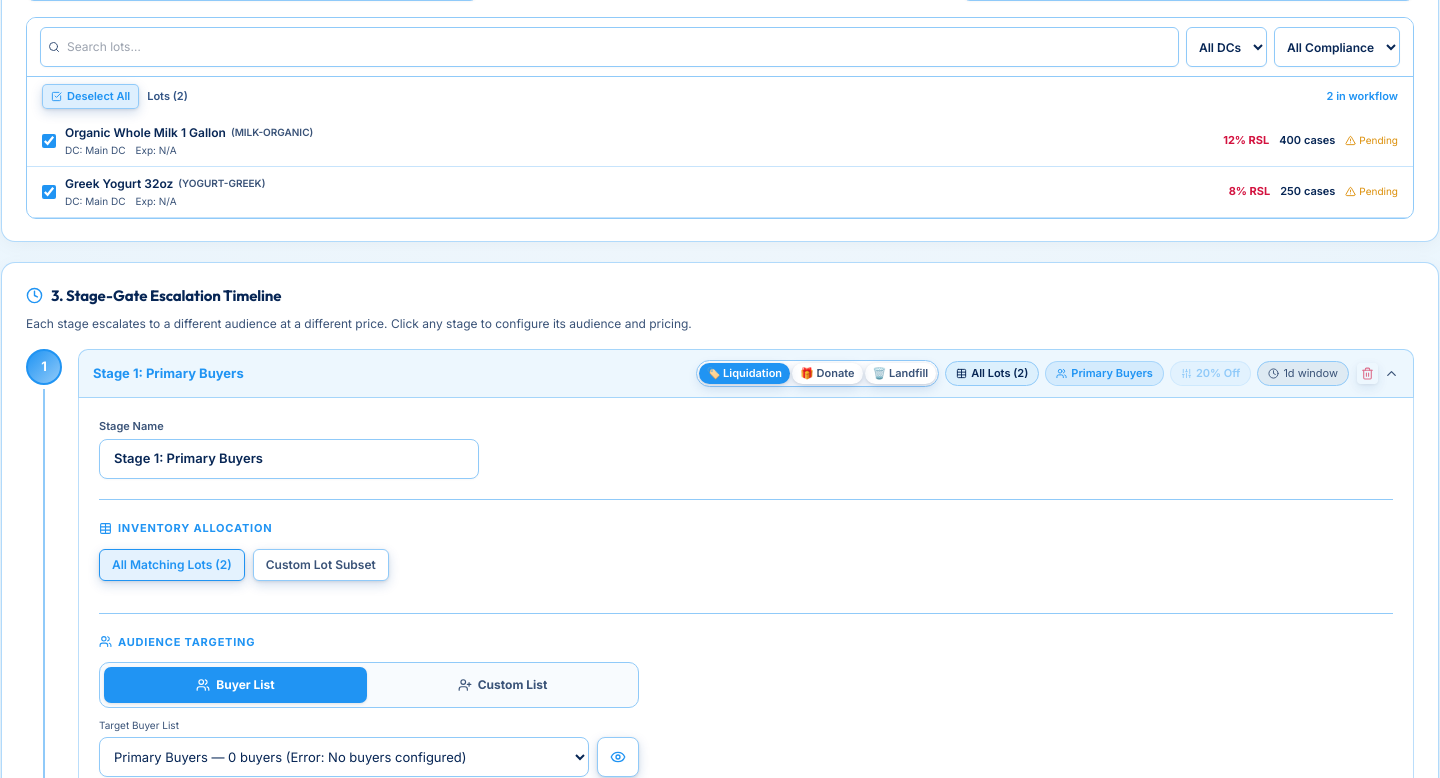
Test case: Slice 3: Context-Aware Stage Email Presets & Dynamic Token Interpolation › pre-populates Donation email template and subject when opening StageEmailModal for a Donation stage
(page scrolled)
Note: Switch Stage 1 to Donation
Click the button with test id "stage-1-type-donation" at (827, 373), box 792,363 -> 863,384
(page scrolled)
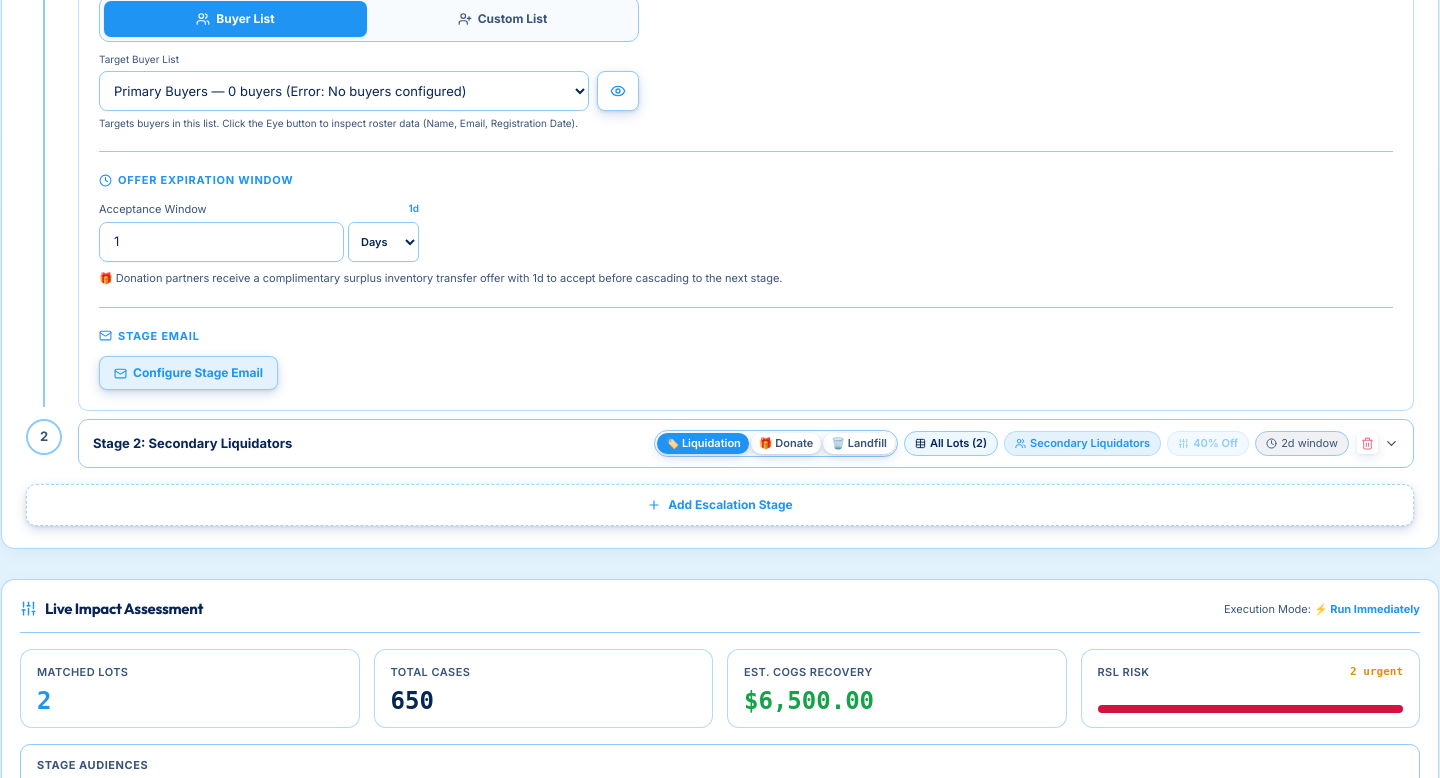
Note: Stage 1 is expanded by default, open Configure Stage Email modal
Click the button with test id "configure-stage-email-btn-1" at (188, 373), box 99,356 -> 278,390
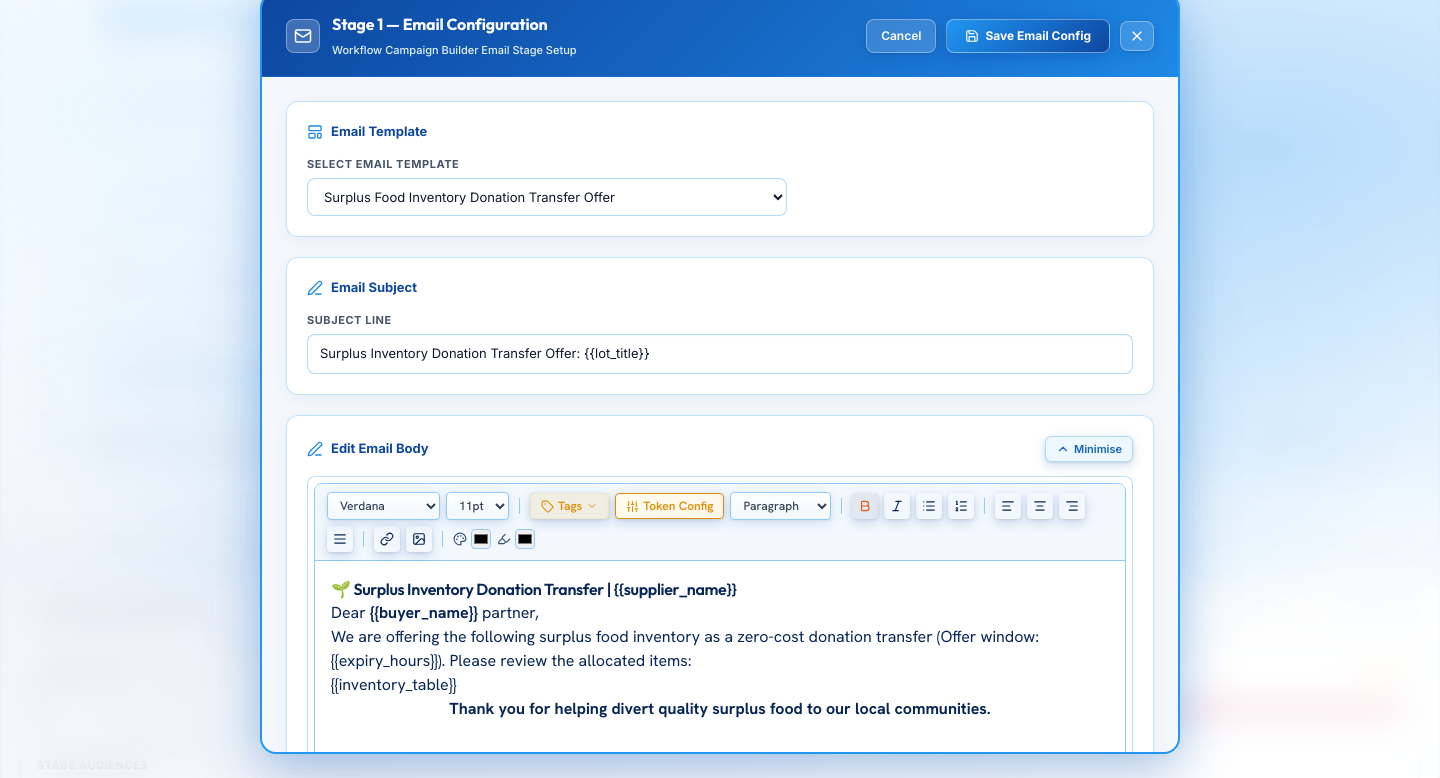
Expected: the field with test id "stage-modal-subject-input" holds "Surplus Inventory Donation Transfer Offer: {{lot_title}}", 307,334 -> 1133,374
